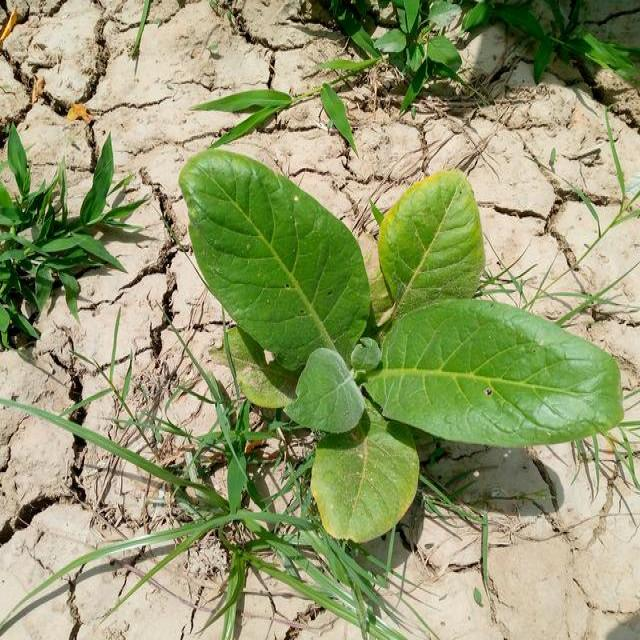crop: (177, 173, 604, 542)
